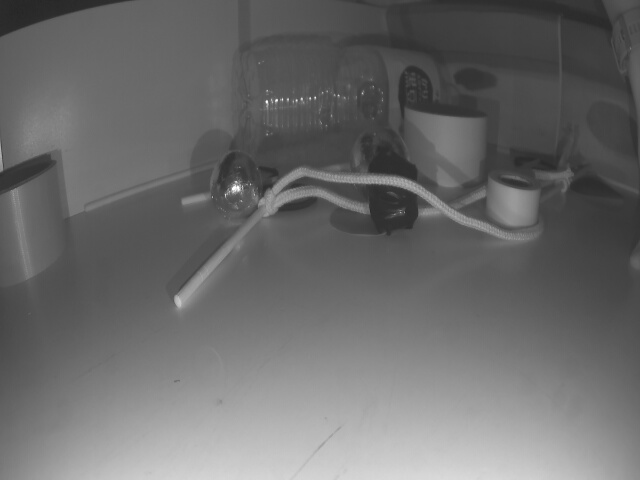Live: (211, 152, 258, 214)
